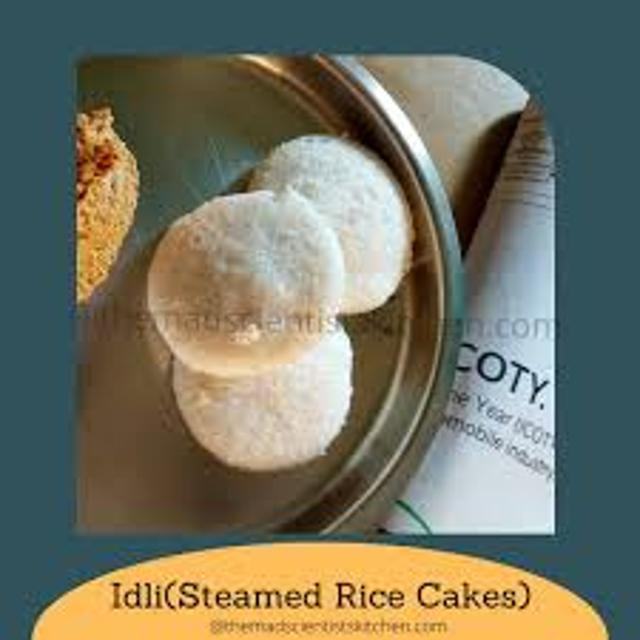idli: (148, 189, 344, 376), (250, 135, 413, 312), (173, 324, 352, 470)
